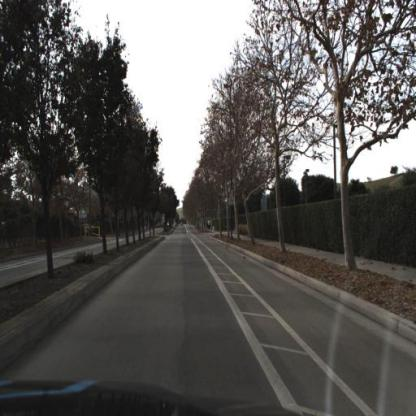car: (181, 223, 184, 227)
pedestrian: (209, 220, 211, 231), (207, 220, 209, 230)
